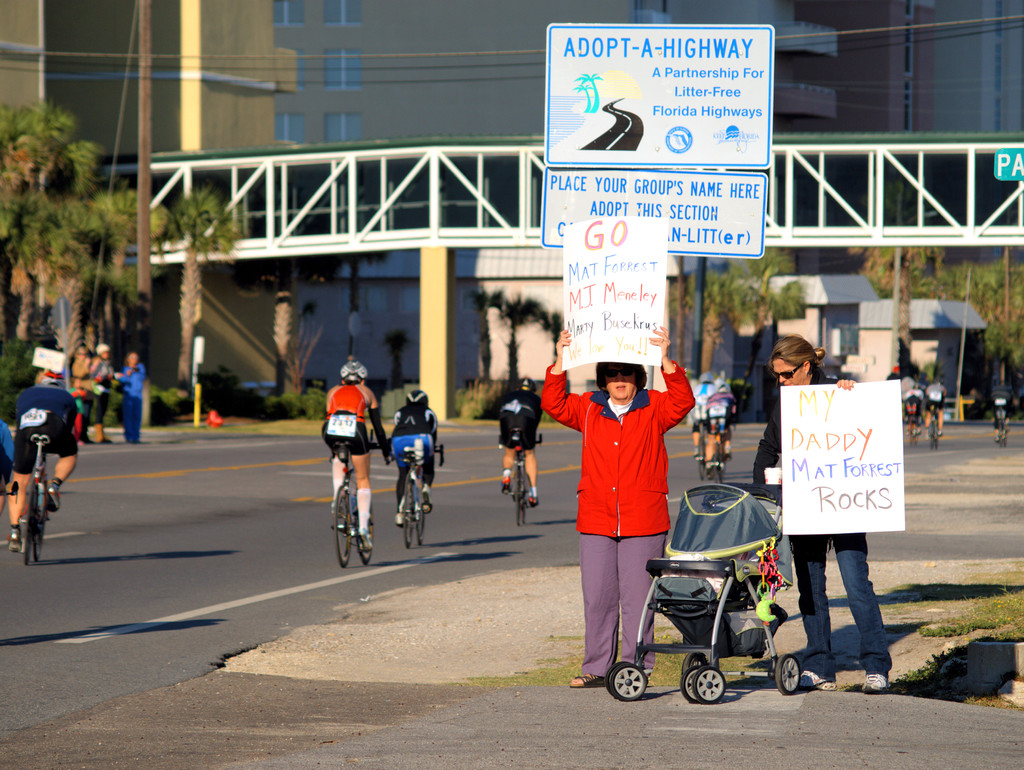Bike_away: (317, 424, 386, 568), (15, 430, 67, 566), (389, 439, 446, 549), (495, 428, 549, 529)
